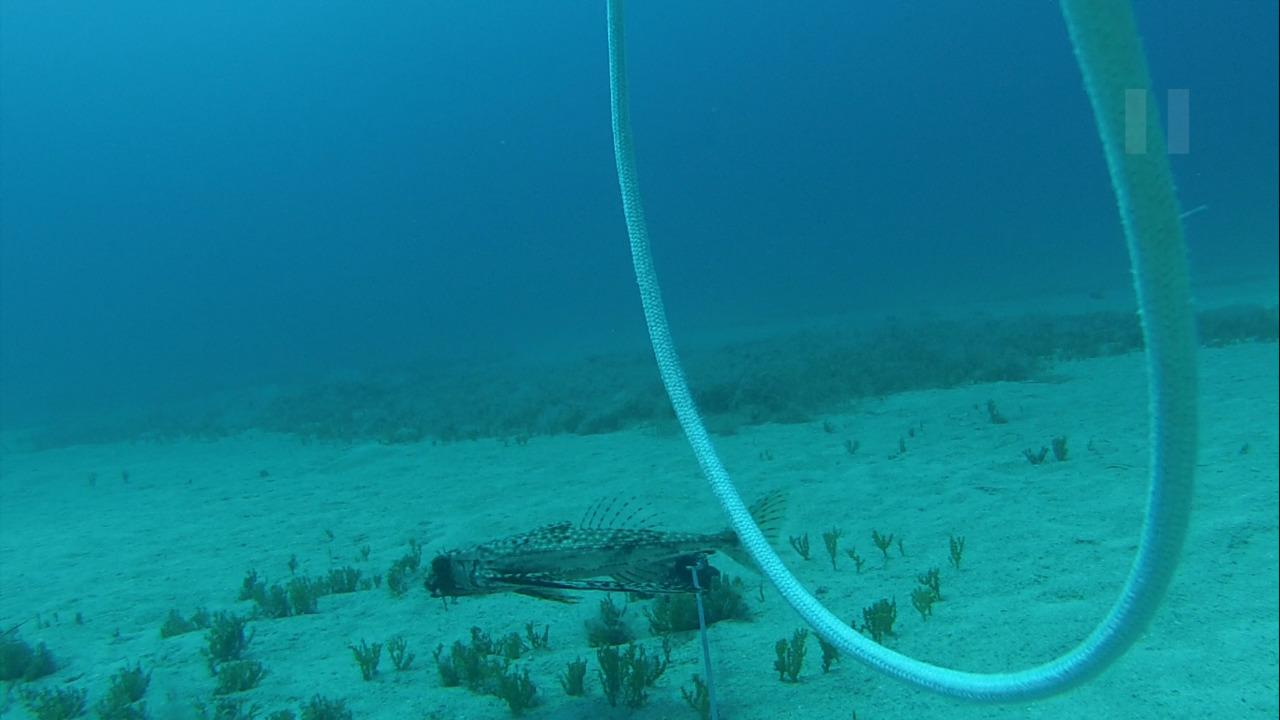dactylopterus: (423, 506, 748, 597)
